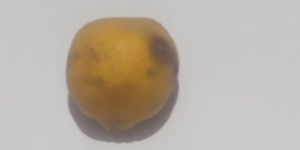BAD: (63, 16, 181, 132)
